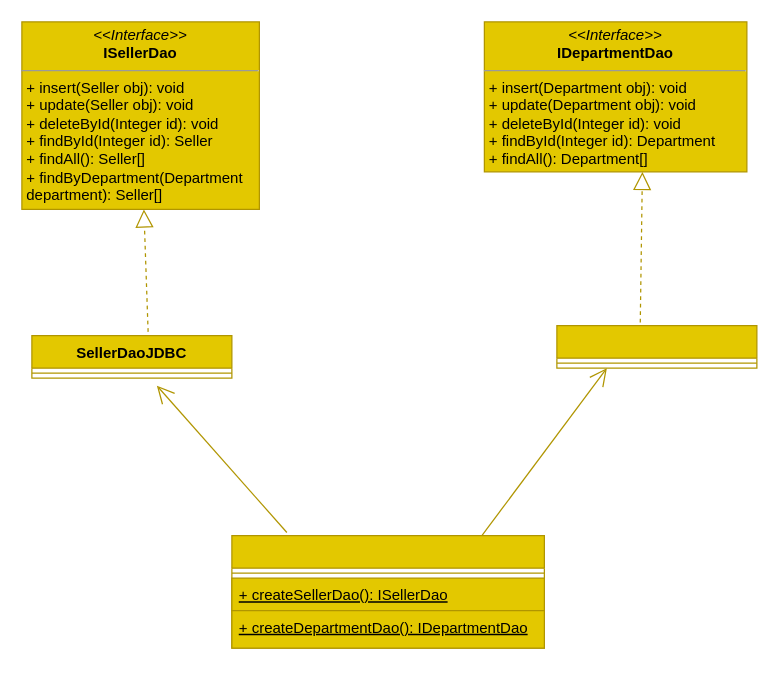
Image size: 779x674. Some labels were removed from this diagram. The shapes that lost their labels are listed below. From the top down, each one's box as (x1, y1, x2, y2) in pixels, then its label:
(556, 324, 757, 368): DepartmentDaoJDBC
(231, 534, 544, 648): DaoFactory
